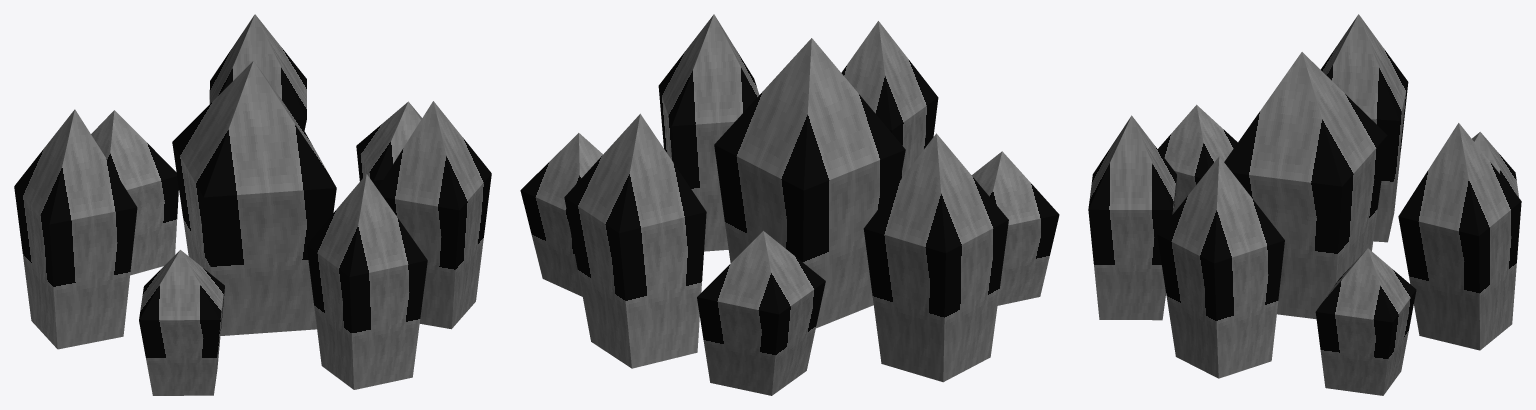
Rendered from crystal.obj.
The picture shows the model from 3 angles, left to right: view 1: azimuth 30°, elevation 25°; view 2: azimuth 150°, elevation 25°; view 3: azimuth 270°, elevation 25°; orthographic projection. The views are drawn at different scales.
Parts seen in each view (by area): view 1: s026, s024, s019, s018, s015, s017, s016, s014; view 2: s026, s016, s024, s017, s018, s019, s015, s014; view 3: s026, s018, s016, s019, s014, s024, s015, s017.
Part boxes in pixels (x1,y1,x2,y2): s026: (172, 61, 336, 335); s024: (14, 109, 137, 349); s019: (306, 174, 427, 389); s018: (377, 101, 491, 329); s015: (139, 250, 224, 395); s017: (91, 110, 178, 275); s016: (209, 14, 306, 130); s014: (356, 101, 421, 188); s026: (714, 38, 905, 328); s016: (564, 113, 706, 368); s024: (863, 133, 1008, 382); s017: (697, 231, 825, 395); s018: (658, 14, 759, 251); s019: (841, 21, 938, 179); s015: (971, 151, 1059, 305); s014: (520, 133, 602, 296); s026: (1224, 52, 1387, 319); s018: (1157, 156, 1284, 378); s016: (1398, 123, 1521, 350); s019: (1088, 115, 1176, 320); s014: (1315, 248, 1416, 395); s024: (1320, 14, 1408, 242); s015: (1158, 104, 1237, 212); s017: (1472, 132, 1518, 197).
Bounding box in the file's own units: 0.8694 × 0.4899 × 0.7911.
